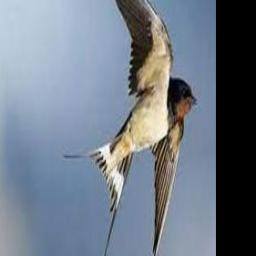Swallow: (64, 0, 196, 256)
